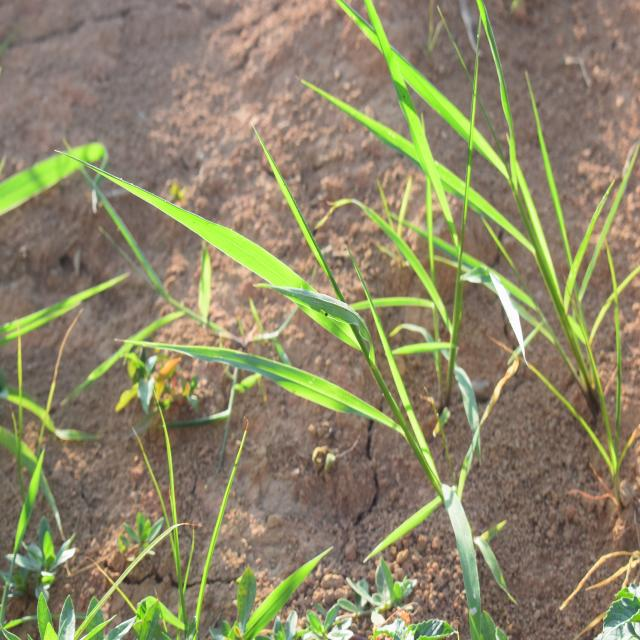green_foxtail: (163, 179, 447, 542), (364, 26, 617, 332)
